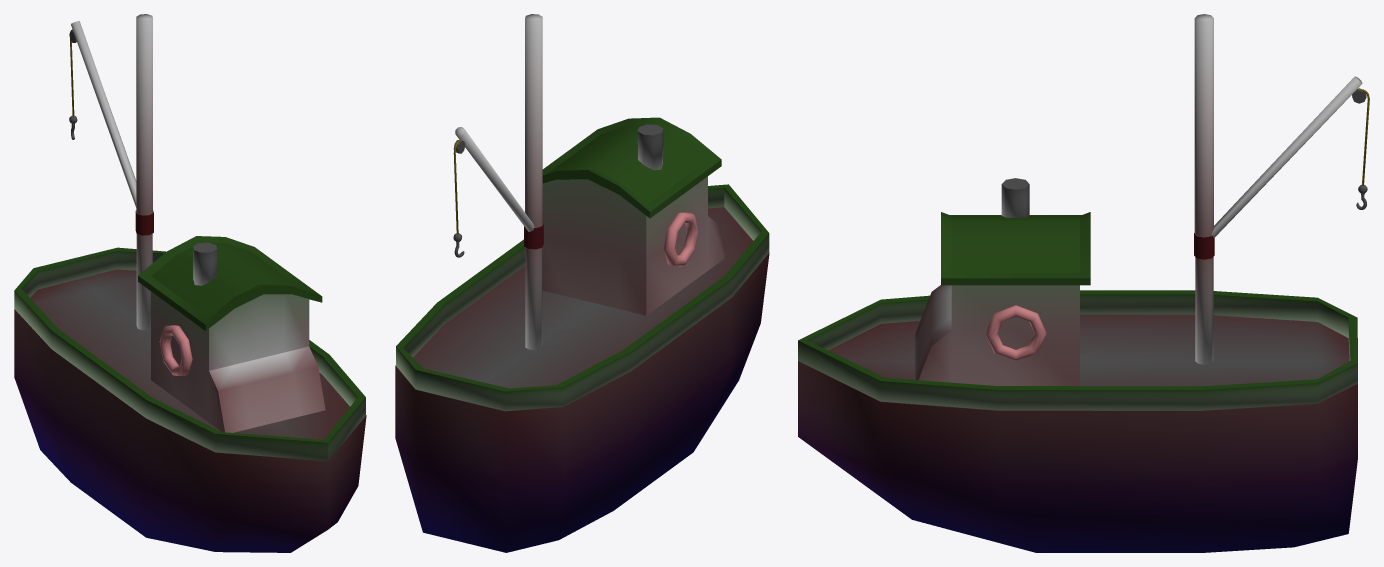
Rendered from PlayerFishingBoat.fbx.
The picture shows the model from 3 angles, left to right: view 1: azimuth 30°, elevation 25°; view 2: azimuth 150°, elevation 25°; view 3: azimuth 270°, elevation 25°; orthographic projection. The views are drawn at different scales.
Parts seen in each view (by area): view 1: BarcoPesqueiro; view 2: BarcoPesqueiro; view 3: BarcoPesqueiro.
Part boxes in pixels (left/top/right/bottom): BarcoPesqueiro: left=14, top=14, right=366, bottom=552; BarcoPesqueiro: left=395, top=14, right=769, bottom=552; BarcoPesqueiro: left=798, top=14, right=1369, bottom=552.
Bounding box in the file's own units: 1124 × 1100 × 465.
